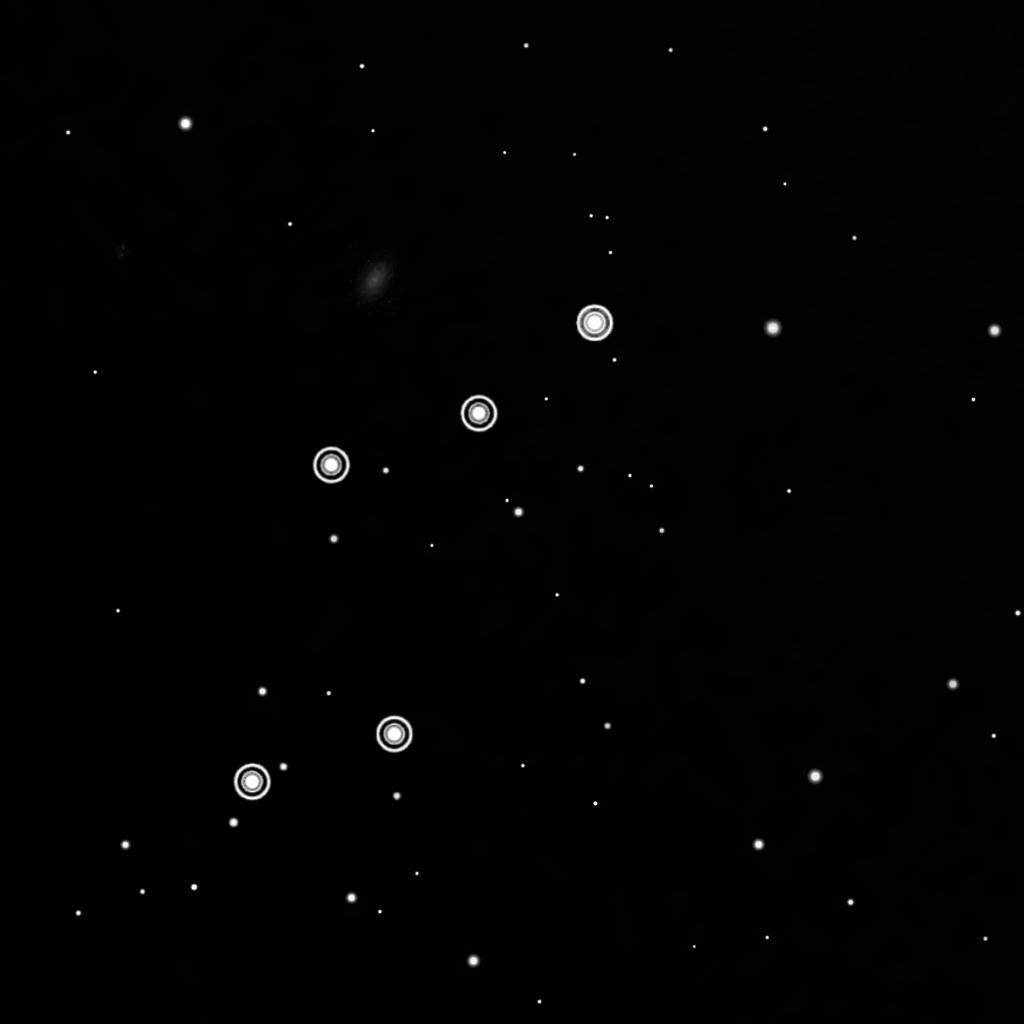lyra: (212, 285, 627, 820)
